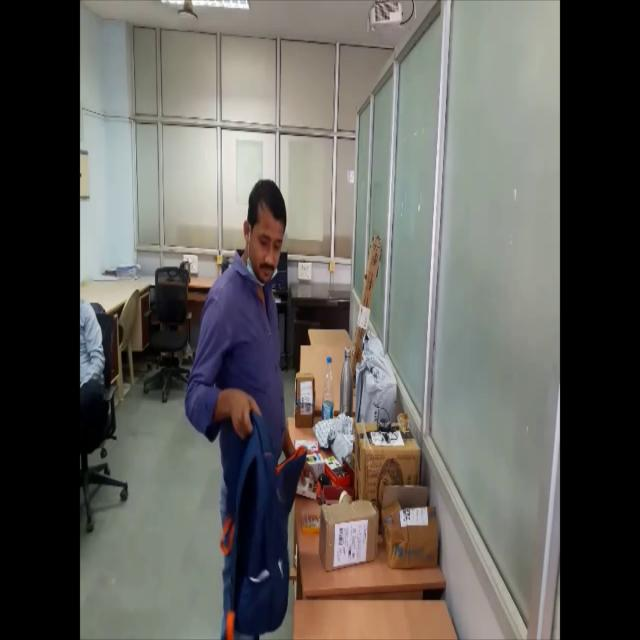shoplifting: (183, 177, 305, 640)
